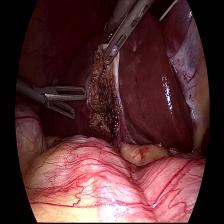Grasper: (100, 1, 153, 75), (16, 75, 88, 124)
Irrigator: (100, 13, 117, 41)
